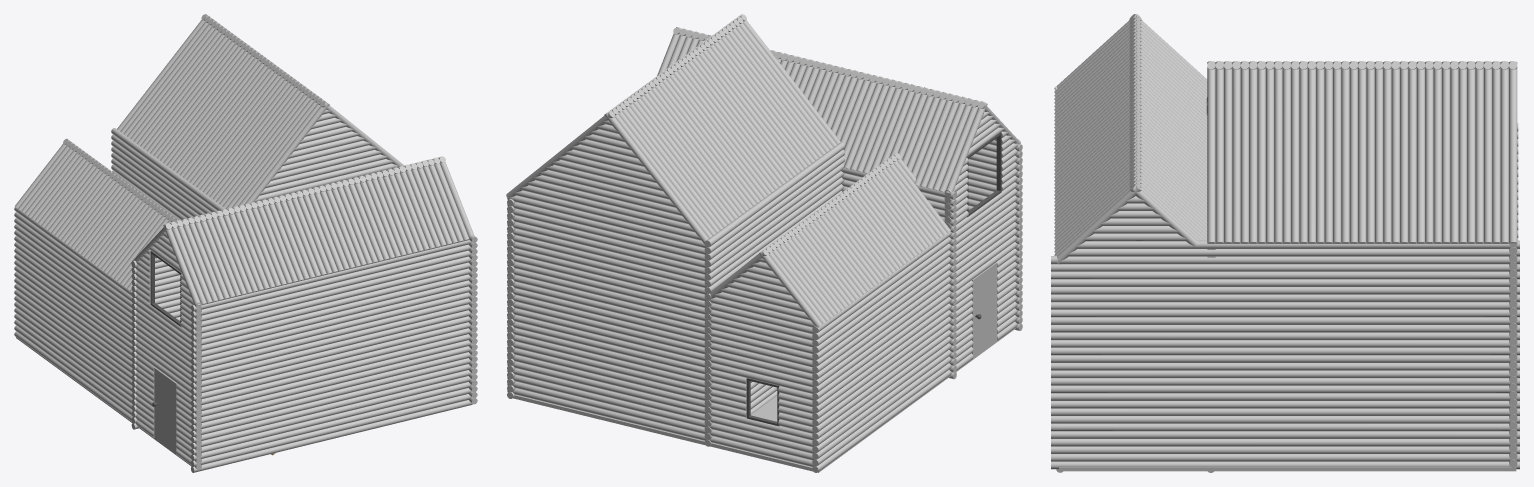
The model's file is loghouse.fbx.
The picture shows the model from 3 angles, left to right: view 1: azimuth 30°, elevation 25°; view 2: azimuth 150°, elevation 25°; view 3: azimuth 270°, elevation 25°; orthographic projection. The views are drawn at different scales.
Parts seen in each view (by area): view 1: loghouse; view 2: loghouse; view 3: loghouse.
Part boxes in pixels (x1,y1,x2,y2): loghouse: [14, 14, 477, 472]; loghouse: [506, 14, 1022, 472]; loghouse: [1051, 14, 1519, 472].
Size of the model in its own units: 2845 by 2711 by 3175.
